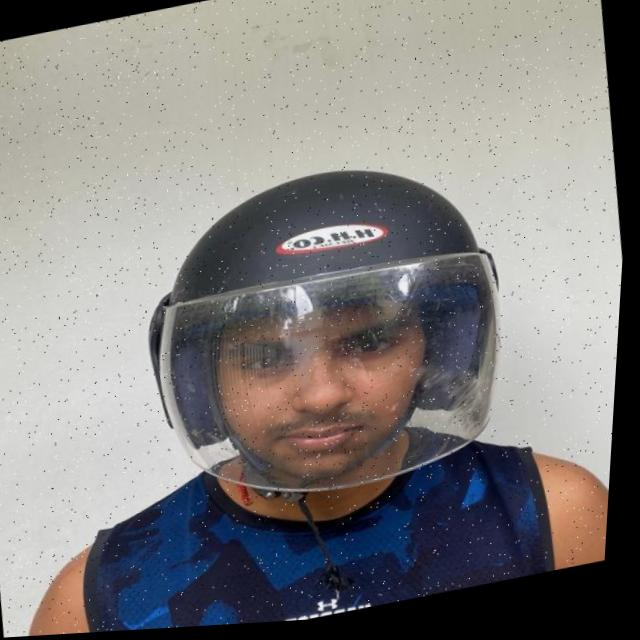helmet: (122, 144, 548, 627)
